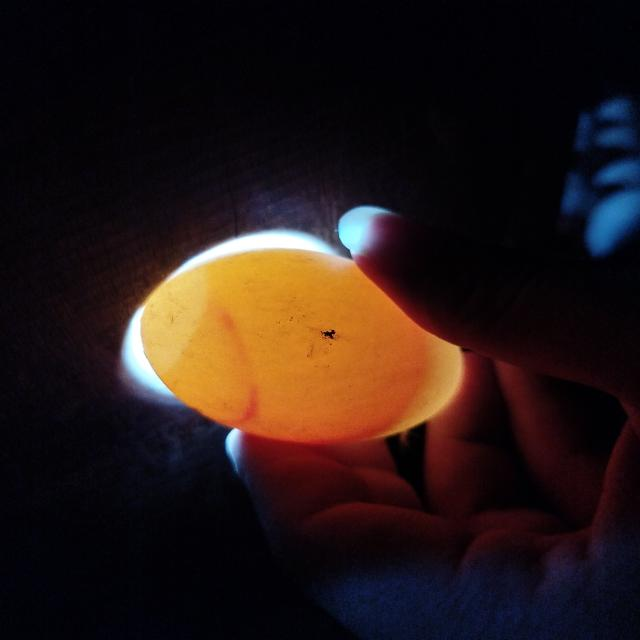Camara de Ar: (141, 266, 207, 373)
Gema Quebrada: (258, 263, 428, 445)
